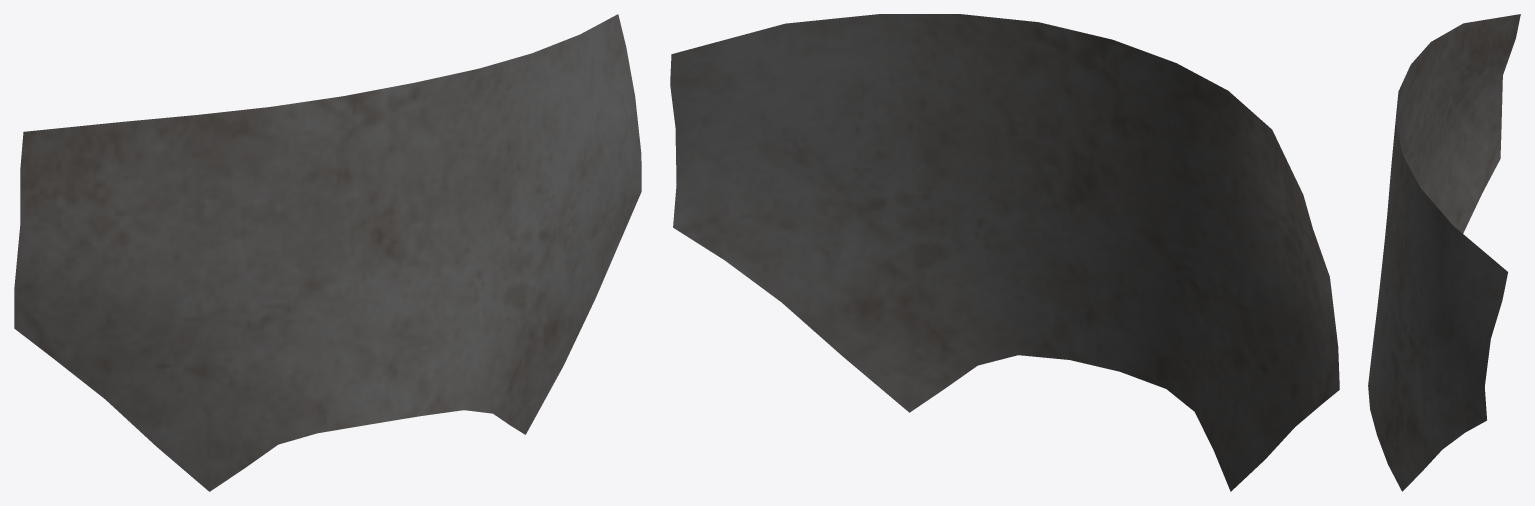
File: kaca helm.fbx
3 renders of one model, left to right at view 1: azimuth 30°, elevation 25°; view 2: azimuth 150°, elevation 25°; view 3: azimuth 270°, elevation 25°, orthographic. The views are drawn at different scales.
Visible parts, largest first — view 1: badan.001; view 2: badan.001; view 3: badan.001.
Boxes of the visible parts, x1=… form: badan.001: x1=14, y1=14, x2=641, y2=491; badan.001: x1=670, y1=14, x2=1339, y2=491; badan.001: x1=1368, y1=14, x2=1520, y2=491.
Size of the model in its own units: 34.79 by 20.69 by 8.83.
